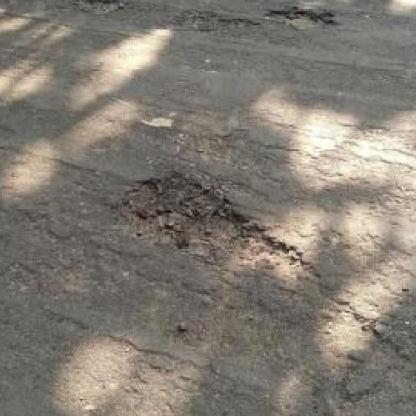pothole: (110, 173, 309, 280), (262, 4, 338, 33), (67, 0, 130, 16)
